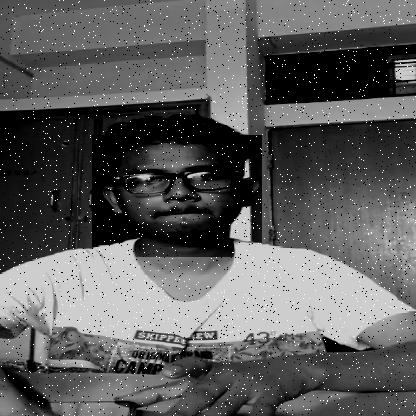Normal: (92, 136, 262, 258)
